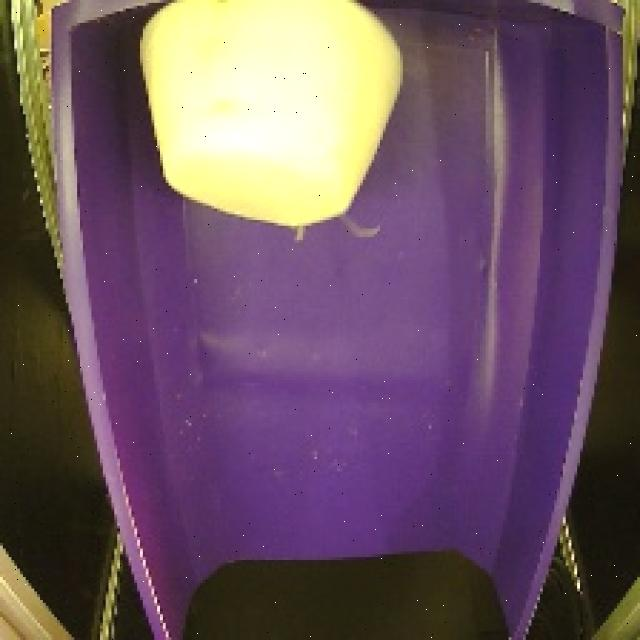white_radish: (129, 0, 414, 262)
